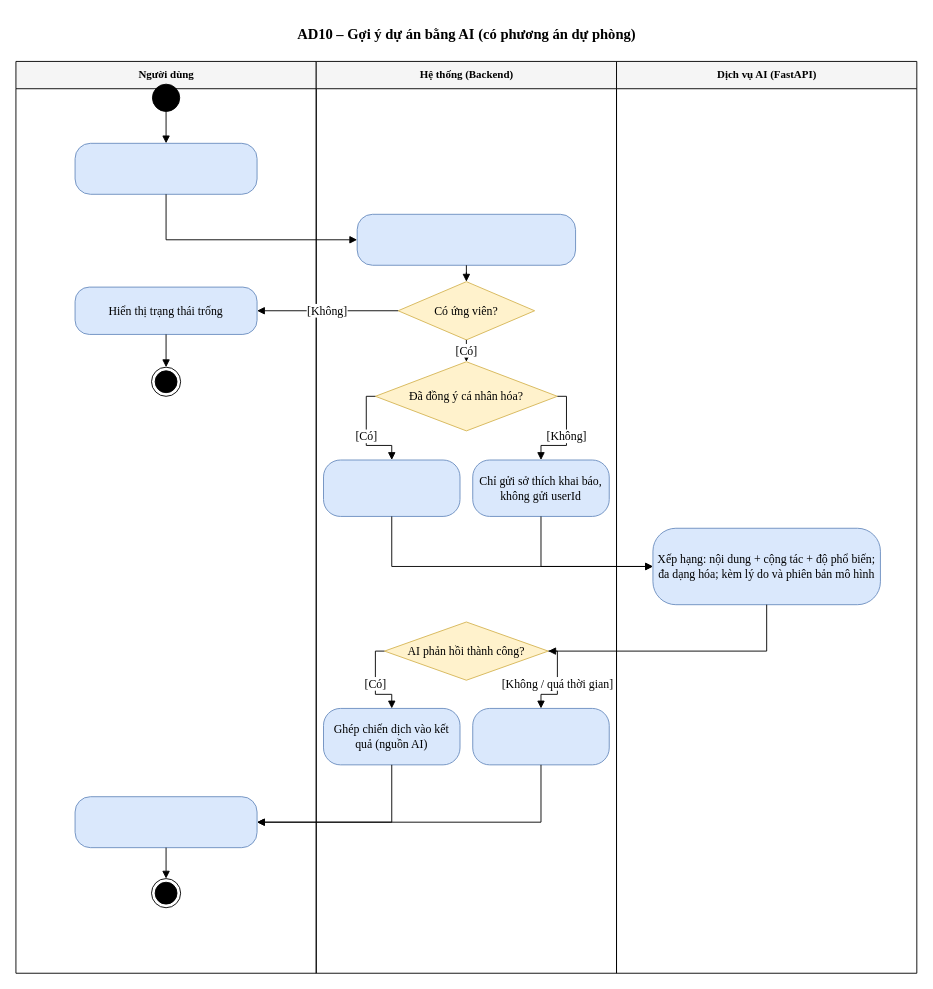
The diagram is 933 pixels wide and 989 high, and some of its shapes have lost their labels. Each missing label, with the centre of its shape:
Dự phòng: xếp theo độ phổ biến (POPULAR_FALLBACK): the point at 540,736
Gửi kèm lịch sử hành vi và sở thích: the point at 391,487
Hiển thị danh sách gợi ý kèm lý do ngắn: the point at 165,822
Lấy danh sách chiến dịch ứng viên đang gây quỹ: the point at 466,239
Mở trang chủ / trang khám phá dự án: the point at 165,168
